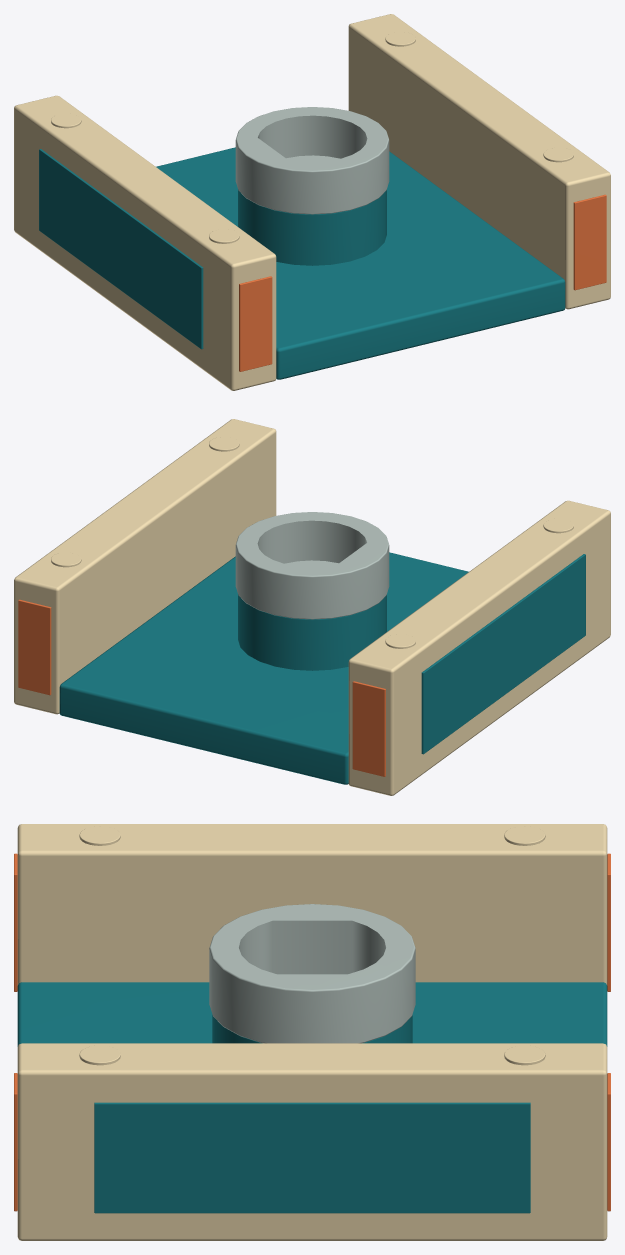
Rendered from cradle-lod-0.glb.
3 renders of one model, top to bottom at view 1: azimuth 30°, elevation 25°; view 2: azimuth 150°, elevation 25°; view 3: azimuth 270°, elevation 25°, orthographic. The views are drawn at different scales.
Parts seen in each view (by area): view 1: cradle_lod_0; view 2: cradle_lod_0; view 3: cradle_lod_0.
Part boxes in pixels (left/top/right/bottom): cradle_lod_0: left=14, top=14, right=610, bottom=390; cradle_lod_0: left=14, top=419, right=610, bottom=795; cradle_lod_0: left=14, top=824, right=610, bottom=1240.
Bounding box in the file's own units: 2.02 × 0.65 × 2.02.
